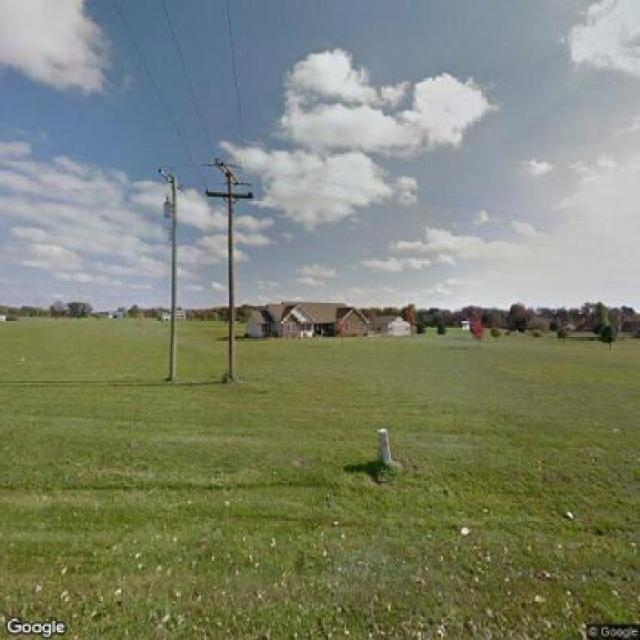pole: (200, 155, 266, 373), (152, 160, 188, 382)
